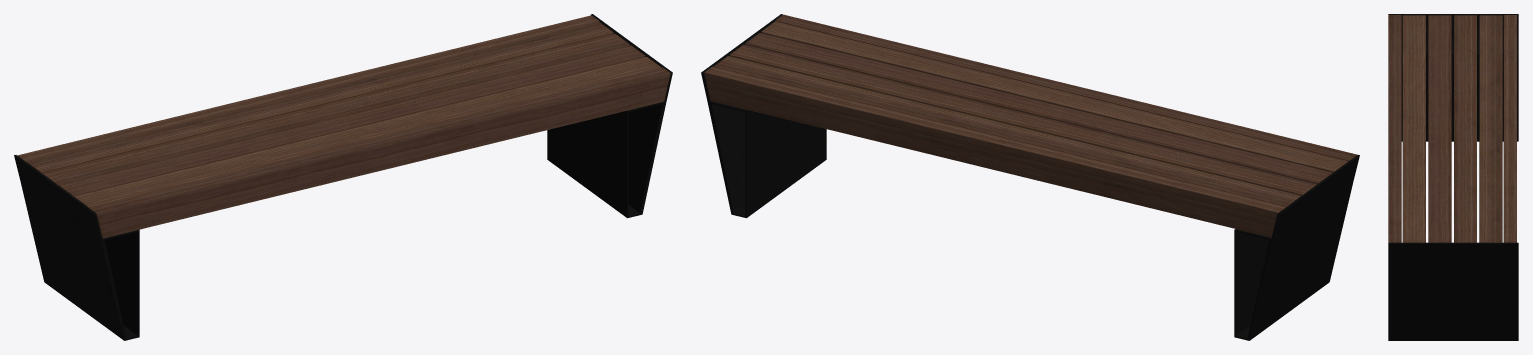
Rendered from st_bench_27_low.gltf.
3 renders of one model, left to right at view 1: azimuth 30°, elevation 25°; view 2: azimuth 150°, elevation 25°; view 3: azimuth 270°, elevation 25°, orthographic. The views are drawn at different scales.
Visible parts, largest first — view 1: Cube.003, Cube.002, Cube.004; view 2: Cube.003, Cube.002, Cube.004; view 3: Cube.003, Cube.004, Cube.002.
Part boxes in pixels (<box>): Cube.003: <box>27,22,660,207</box>; Cube.002: <box>17,15,670,238</box>; Cube.004: <box>14,14,672,340</box>; Cube.003: <box>714,21,1347,206</box>; Cube.002: <box>704,14,1357,237</box>; Cube.004: <box>701,14,1359,340</box>; Cube.003: <box>1402,15,1502,242</box>; Cube.004: <box>1388,14,1518,340</box>; Cube.002: <box>1388,15,1516,242</box>.
Size of the model in its own units: 2.02 by 0.4492 by 0.4847.
Materials: 1 (1 with a texture image).
